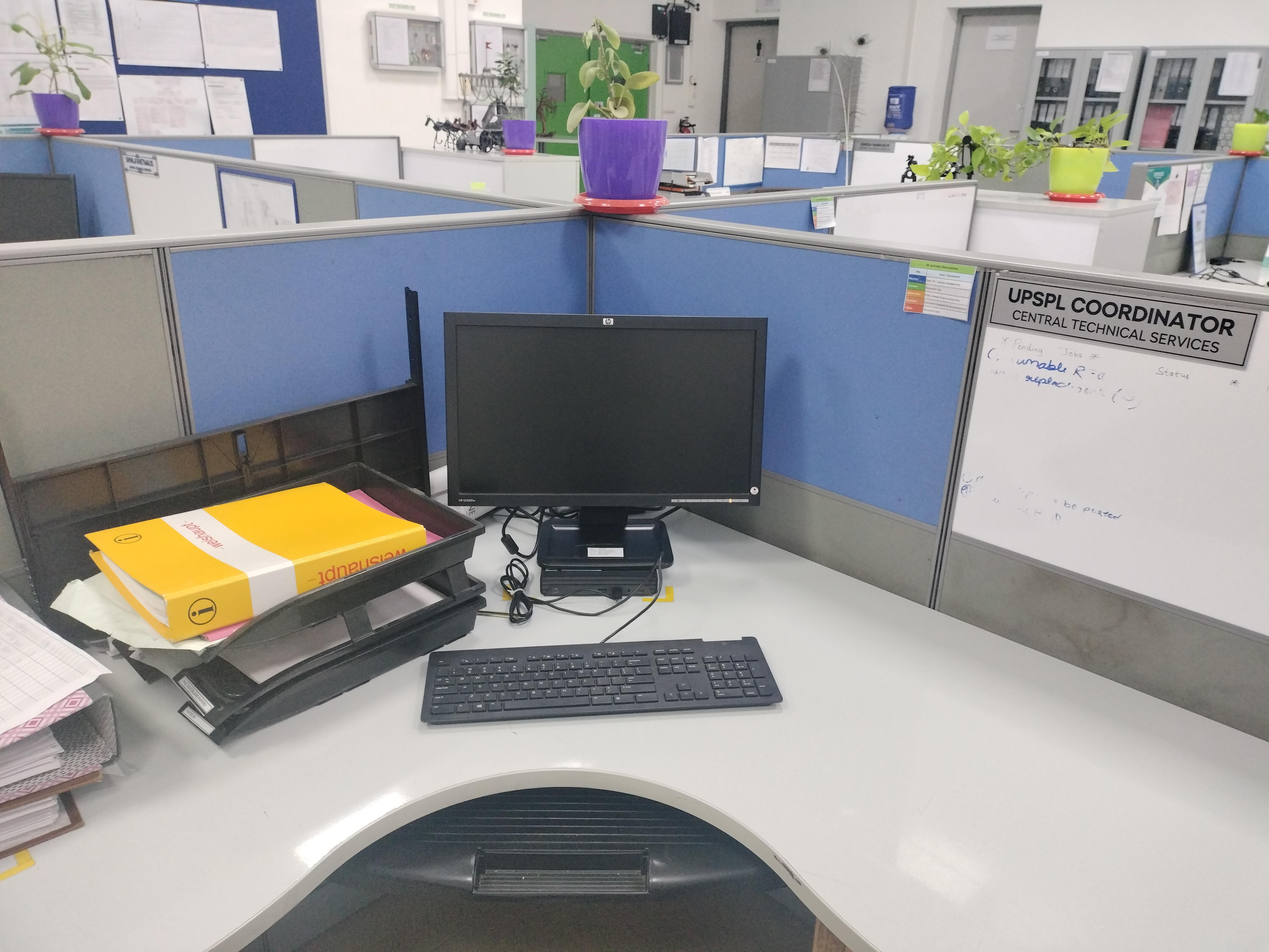StickyNotes: (901, 256, 978, 323)
desktop: (442, 312, 769, 569)
file: (83, 479, 429, 644), (0, 576, 124, 808), (0, 771, 106, 860)
filetray: (111, 461, 489, 746)
keyboard: (418, 636, 786, 724)
nameplate: (984, 274, 1264, 374)
page: (0, 592, 115, 736)
vase: (572, 115, 671, 217)
